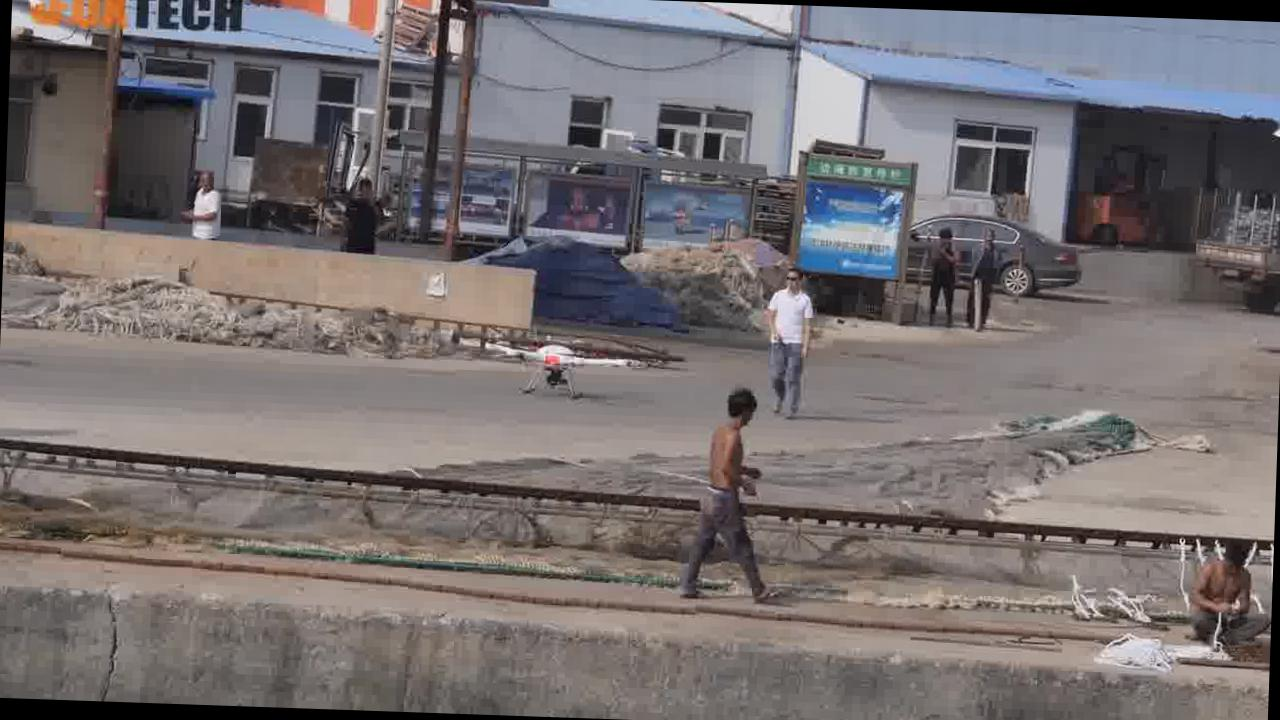drone: (474, 332, 646, 404)
